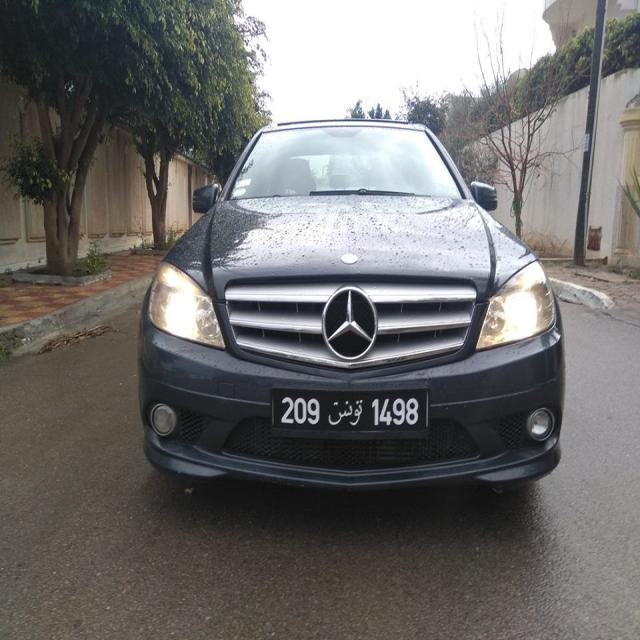LP: (269, 383, 430, 432)
